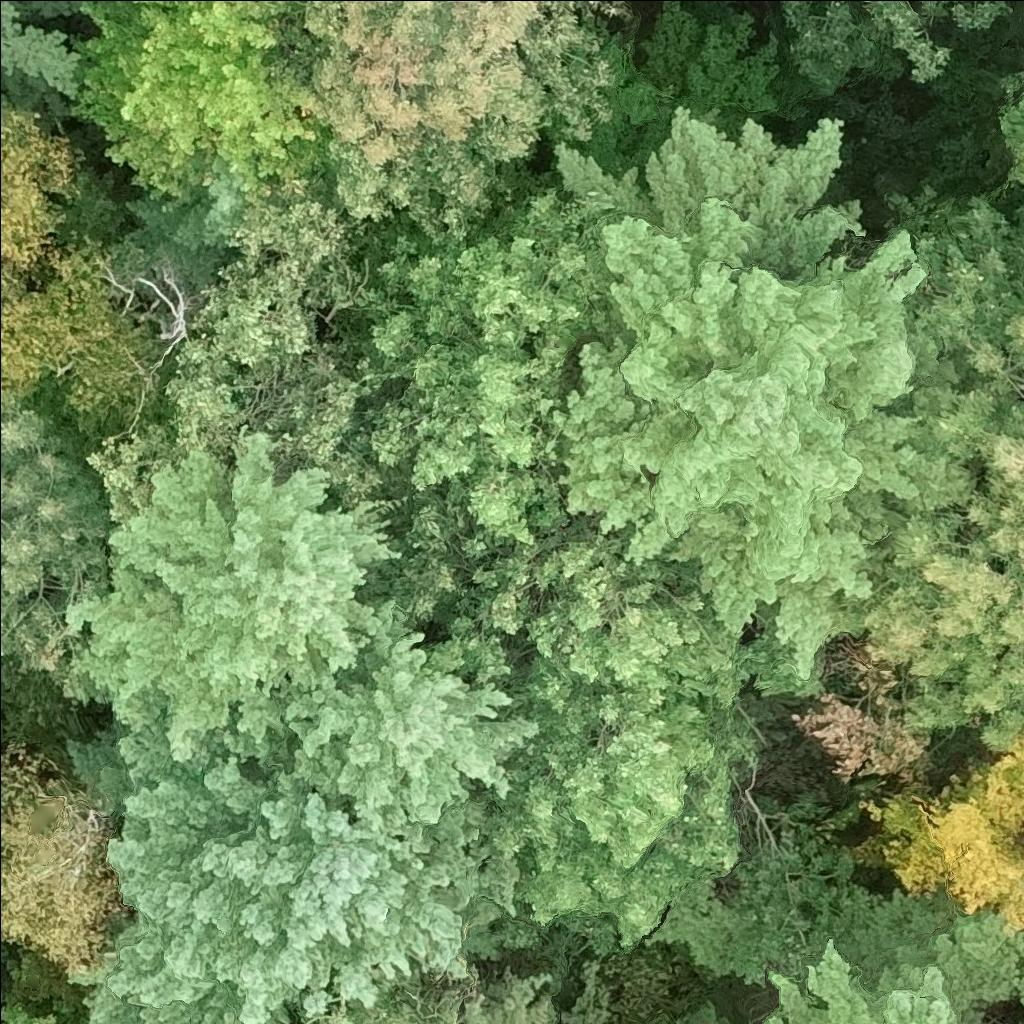crown: (548, 110, 929, 679), (350, 192, 627, 662), (72, 433, 403, 764), (449, 512, 828, 736), (168, 799, 518, 1023), (308, 0, 617, 231), (460, 706, 749, 941), (279, 598, 540, 833), (884, 207, 1023, 610), (73, 0, 341, 203), (643, 846, 940, 987), (0, 410, 118, 703), (859, 557, 1023, 762), (67, 831, 242, 1023), (865, 736, 1023, 931), (0, 743, 136, 965), (0, 238, 162, 423), (122, 725, 301, 867), (544, 38, 679, 180), (646, 0, 778, 145), (759, 938, 983, 1023), (0, 110, 84, 290), (779, 0, 944, 81), (124, 180, 249, 285), (298, 962, 482, 1023), (0, 0, 81, 115), (478, 991, 552, 1023), (1003, 70, 1023, 187), (0, 1005, 60, 1023)
